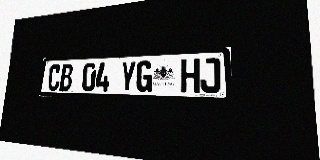0: (81, 63, 97, 91)
4: (95, 62, 111, 92)
B: (59, 64, 74, 91)
C: (47, 64, 61, 91)
G: (135, 60, 153, 92)
H: (181, 58, 200, 93)
J: (200, 58, 221, 93)
Y: (119, 61, 136, 92)
